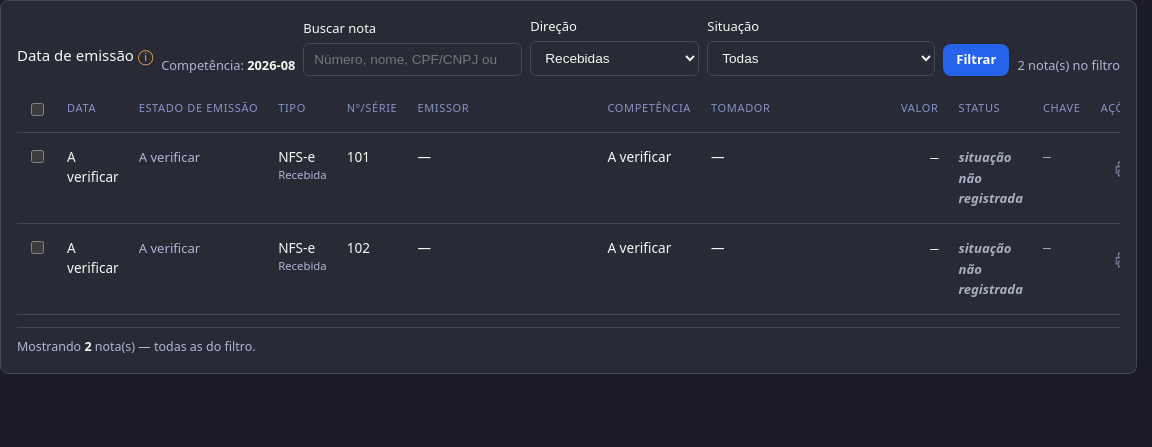
Test: seleciona duas notas sem abrir o detalhe e baixa exatamente a seleção
Click the checkbox named "Selecionar nota 101" at (38, 156), box 31,150 -> 44,163
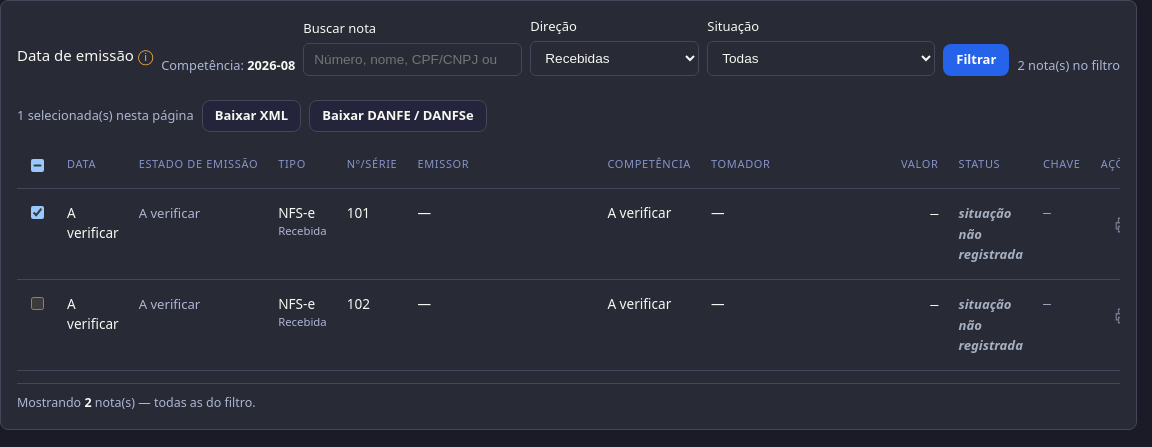
Click the checkbox named "Selecionar nota 102" at (38, 304), box 31,297 -> 44,310
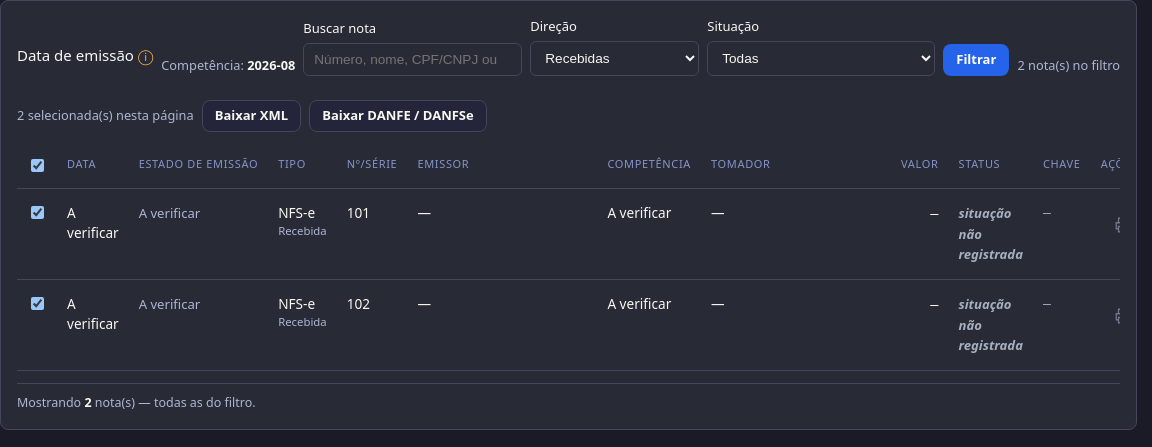
Check: the button "Baixar XML" is enabled, box 202,100 -> 301,132
Click the button "Baixar DANFE / DANFSe" at (398, 116), box 309,100 -> 487,132
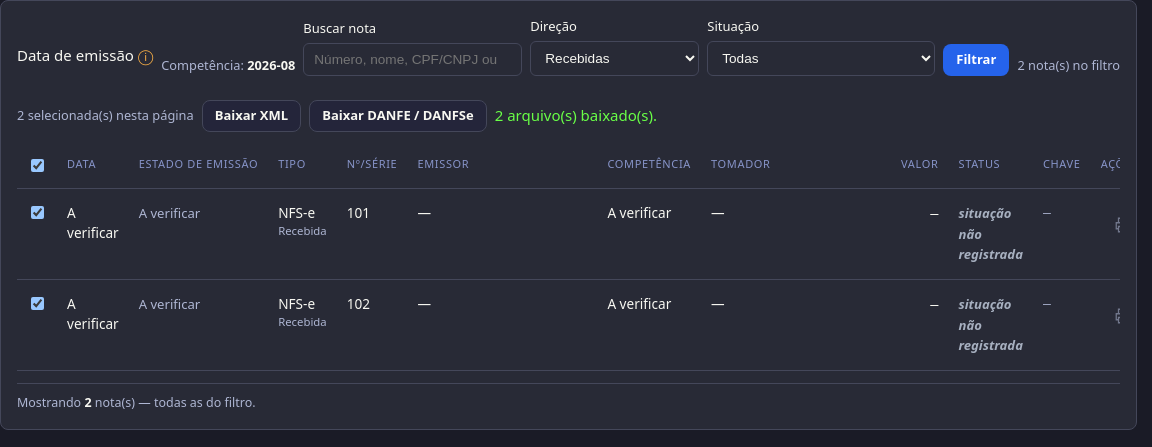
Check: the text "2 arquivo(s) baixado(s)." is shown, box 495,104 -> 657,127
